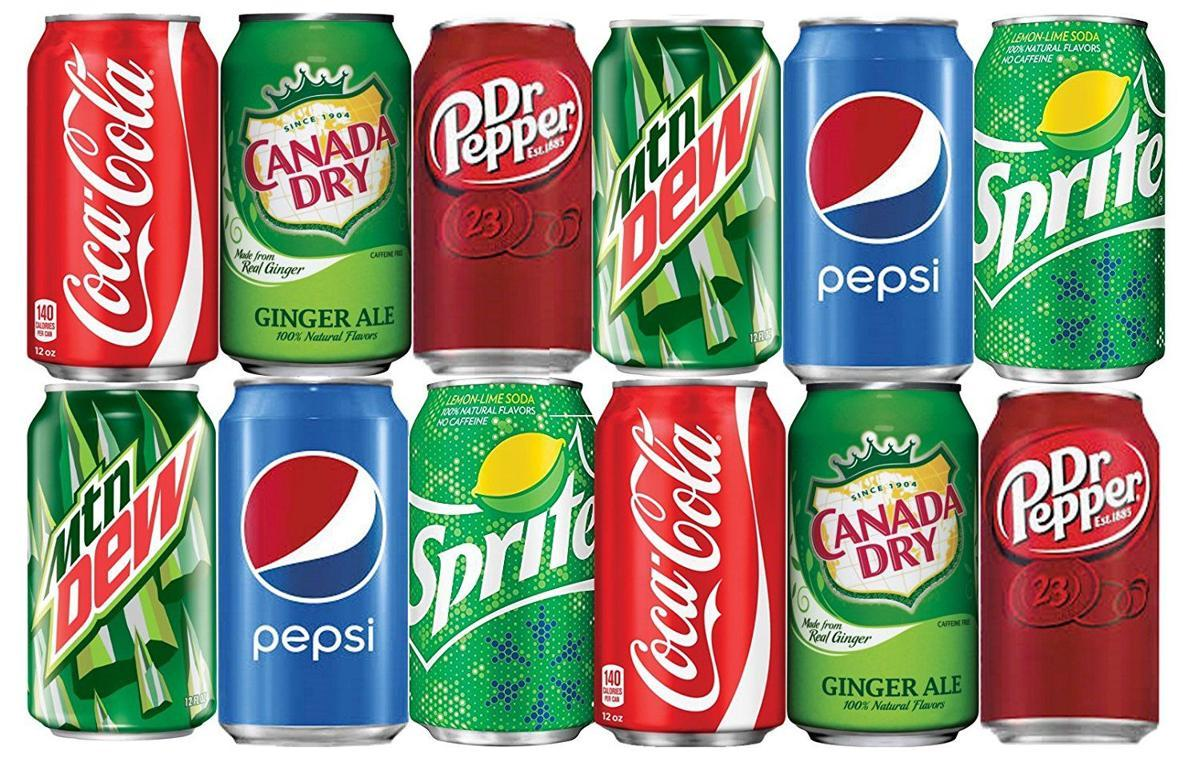can: (219, 375, 407, 745), (410, 367, 594, 745), (596, 377, 785, 745), (974, 16, 1164, 382), (28, 15, 218, 380), (788, 382, 977, 746), (784, 20, 972, 382), (221, 14, 410, 374), (29, 383, 215, 733), (594, 21, 781, 368), (980, 384, 1159, 742), (414, 23, 591, 373)
